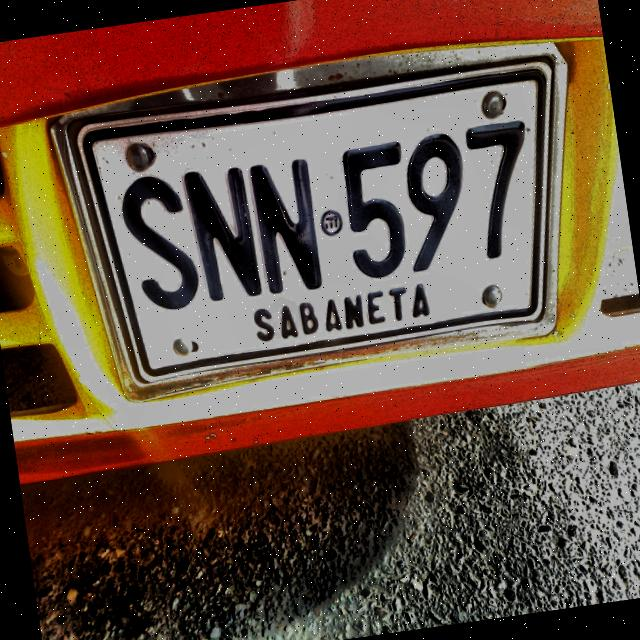plate: (74, 66, 550, 385)
